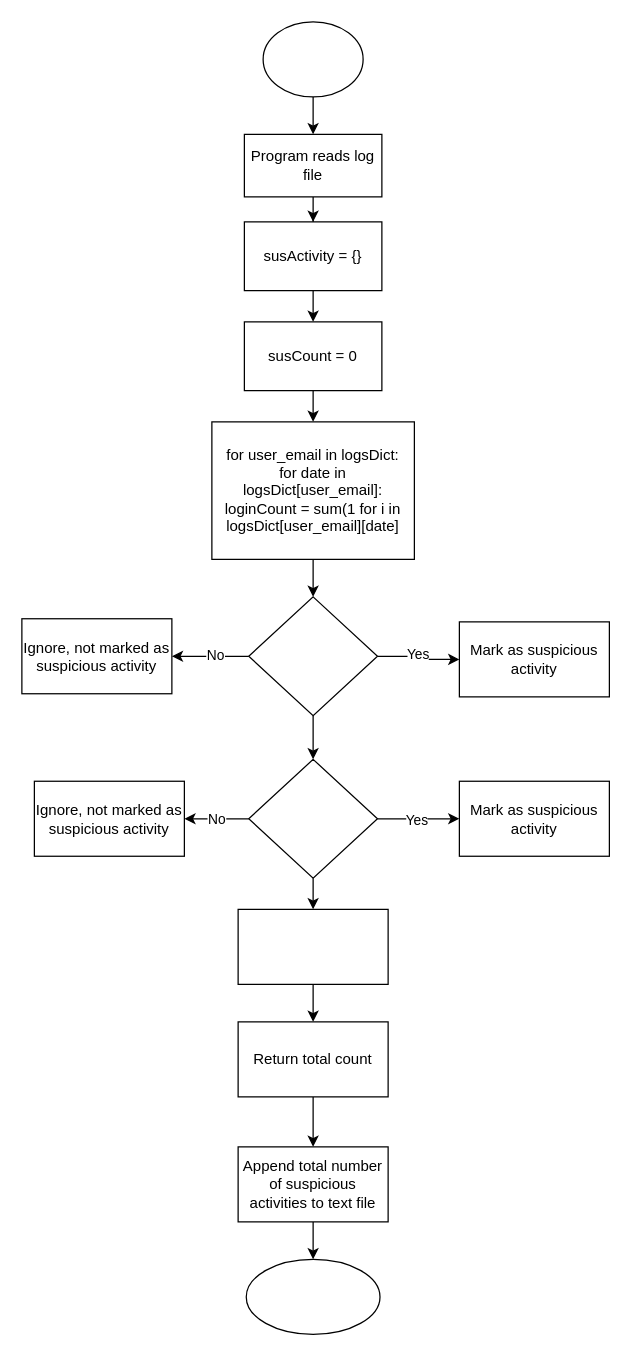
Some shapes in this 631 by 1356 pixel diagram are drawn without their labels. The centre of each missing label's shape, as x and y in pixels:
Count total number of suspicious activities: the point at 312,946
Did the user log in between 12-5 a.m.?: the point at 313,818
Did the user log in more than 5 times?: the point at 313,656
Start: the point at 312,59
Stop: the point at 312,1296
